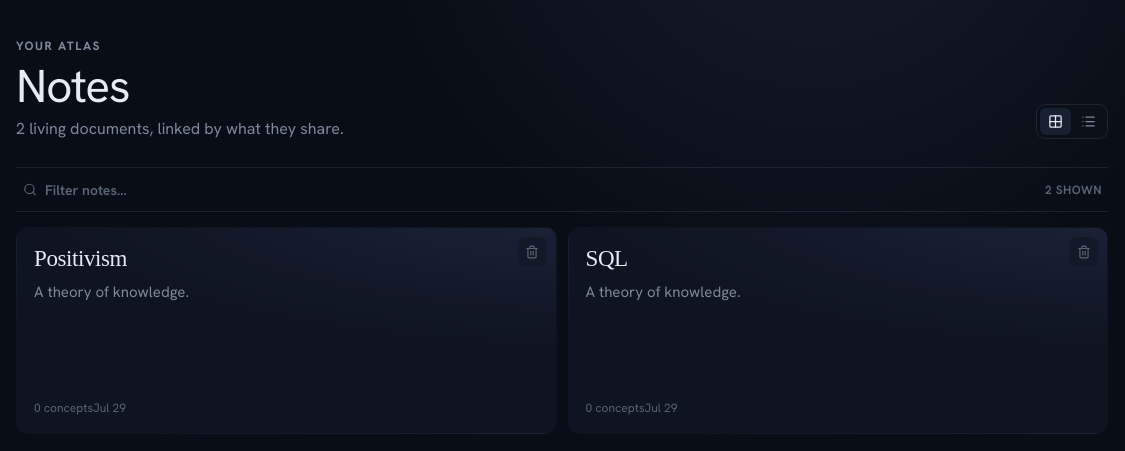
Test: NotesIndex › retains title, alias, and tag filtering
This screenshot has width=1125, height=451.
Step 1. Type "structured query" into the field labelled "Filter notes" → (194, 190), box [45,174,343,206]
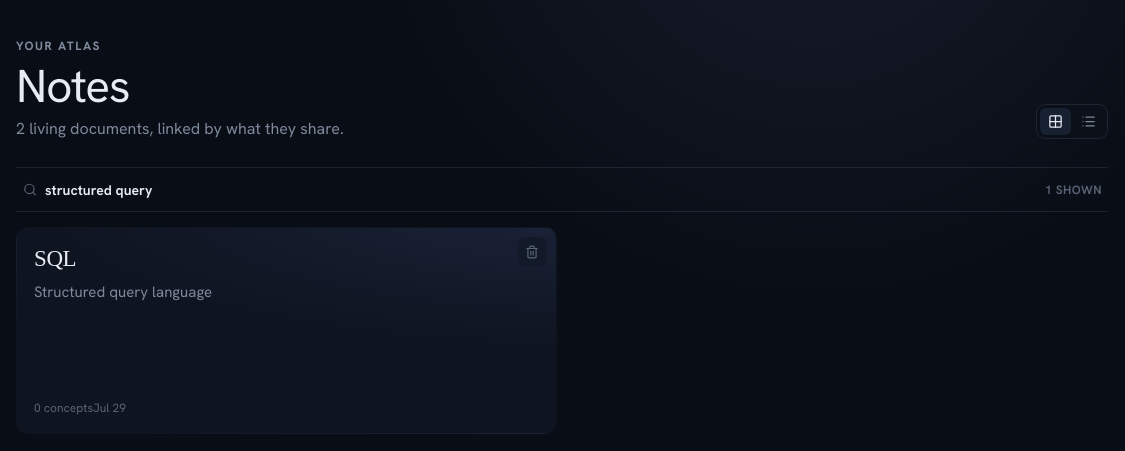
Expected: the text "SQL" is shown, [34,245,76,274]
Now the button "Positivism" is gone
